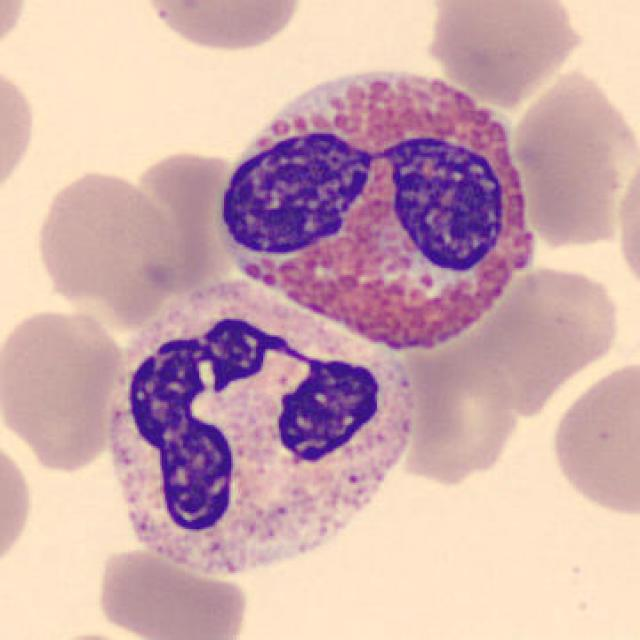Eosinophil: (208, 44, 546, 370), (94, 273, 428, 598)
RBC: (30, 164, 183, 328), (508, 63, 634, 247), (0, 303, 126, 473), (390, 351, 524, 498), (423, 0, 587, 106), (489, 261, 626, 377), (546, 356, 638, 520), (92, 545, 250, 640), (132, 156, 245, 288), (137, 0, 306, 55), (0, 56, 41, 208), (0, 428, 37, 578), (610, 141, 640, 300), (0, 0, 32, 65)
